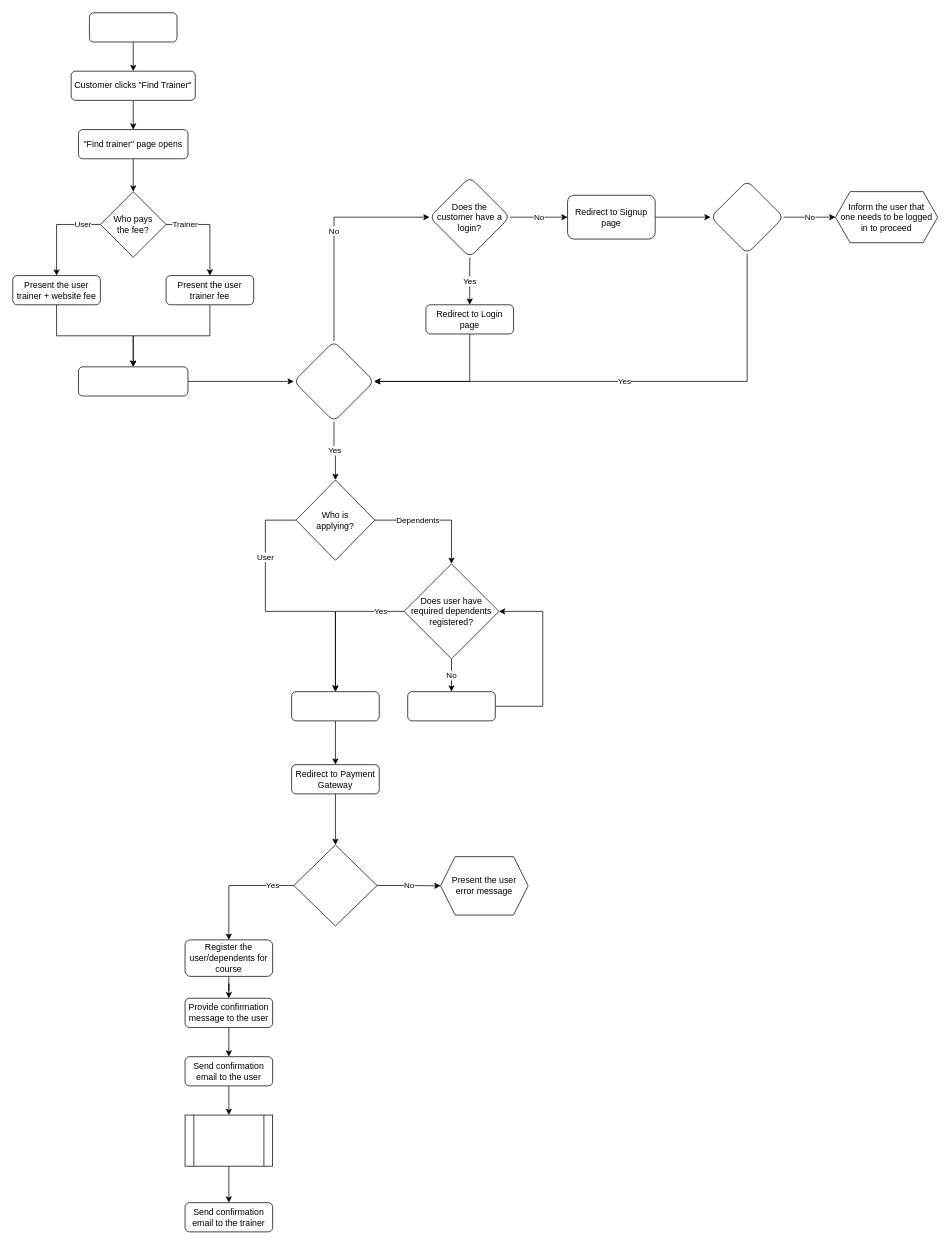
The diagram is 950 pixels wide and 1245 high, and some of its shapes have lost their labels. Each missing label, with the centre of its shape:
"Customer finds the course and wants to apply" belongs at point (133, 381).
"Customer logged in?" belongs at point (333, 381).
"Customer registered?" belongs at point (747, 217).
"Homepage" belongs at point (133, 27).
"Payment distribution Click here for more info" belongs at point (228, 1140).
"Payment processed?" belongs at point (335, 885).
"Register the dependent" belongs at point (451, 706).
"Submit the details" belongs at point (335, 706).
